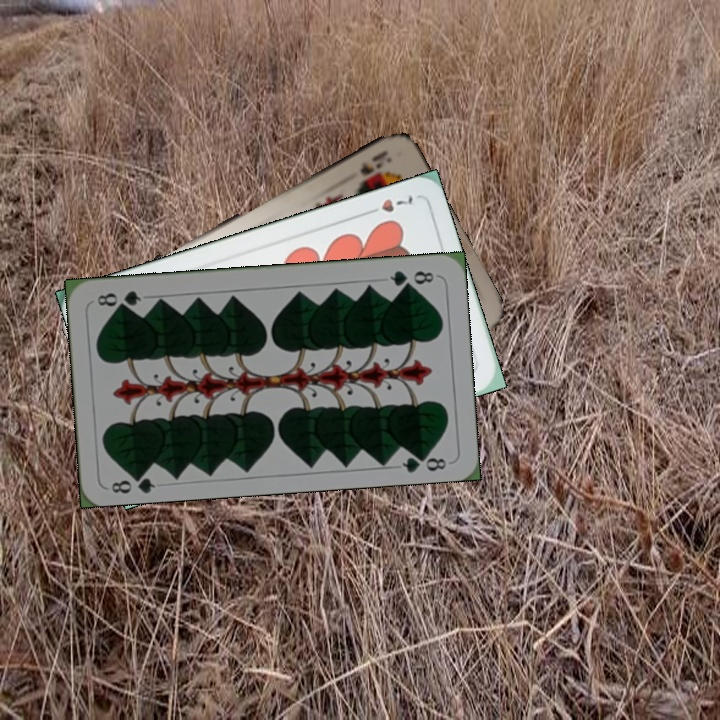G8: (107, 467, 158, 496), (385, 266, 437, 290)
H7: (360, 190, 416, 218)
SK: (356, 146, 395, 178)
